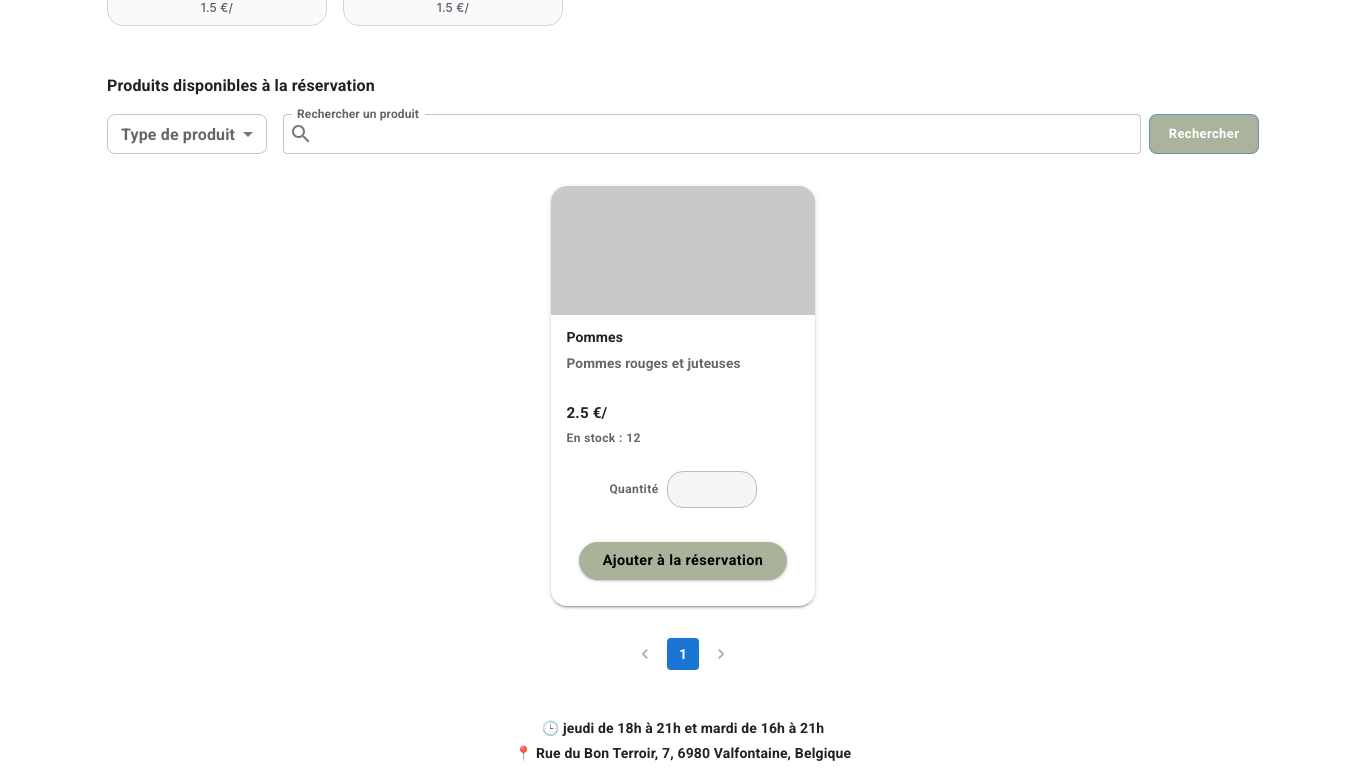
Test: HomePage › opens login/register dialog if user is not authenticated
The width and height of the screenshot is (1366, 768).
(page scrolled)
Click the button "Ajouter à la réservation".
click(683, 561)  # box x1=579 y1=542 x2=787 y2=579
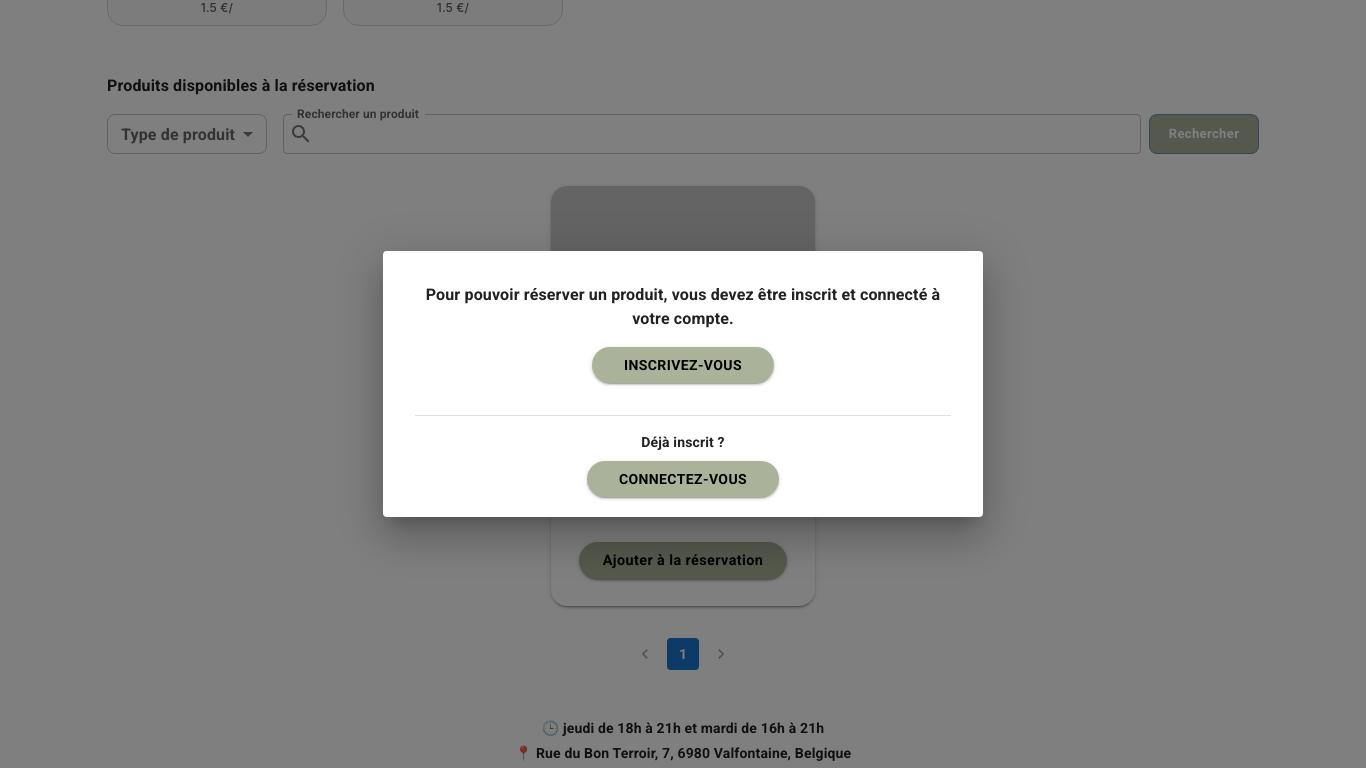
expect the text "vous devez être inscrit et connecté" is shown: met, box x1=426 y1=285 x2=940 y2=328
expect the button "Inscrivez-vous" is shown: met, box x1=592 y1=347 x2=774 y2=384
expect the button "Connectez-vous" is shown: met, box x1=587 y1=460 x2=779 y2=497
